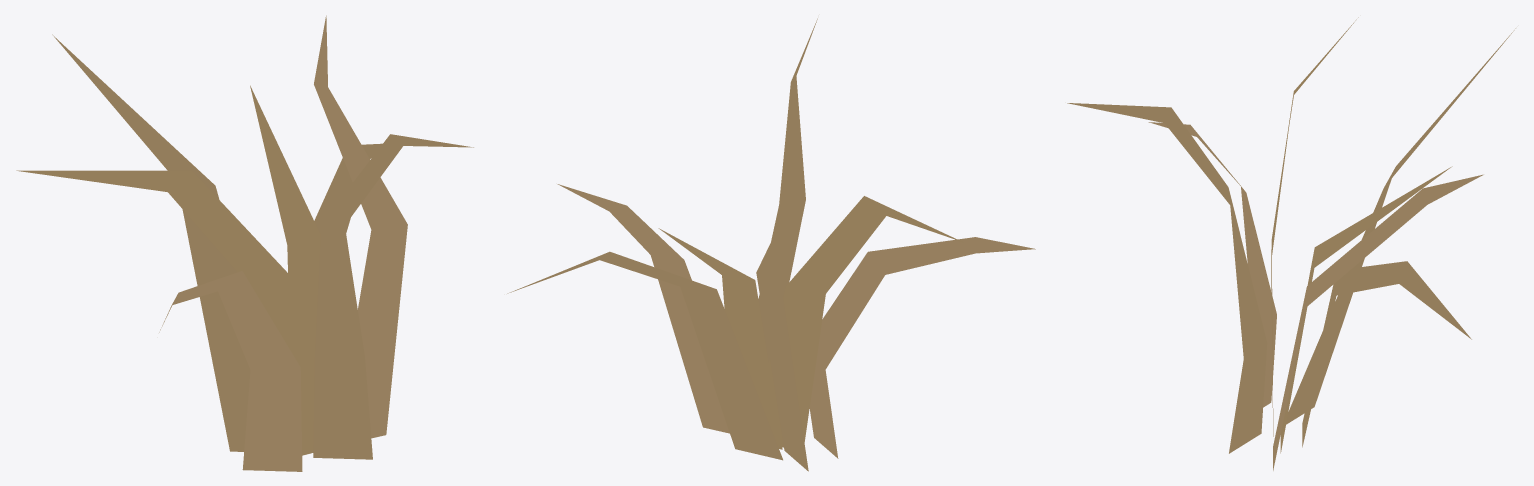
Rendered from Grass_e_OneS_03.fbx.
3 renders of one model, left to right at view 1: azimuth 30°, elevation 25°; view 2: azimuth 150°, elevation 25°; view 3: azimuth 270°, elevation 25°, orthographic. The views are drawn at different scales.
Parts seen in each view (by area): view 1: Grass_e_OneS_03; view 2: Grass_e_OneS_03; view 3: Grass_e_OneS_03.
Part boxes in pixels (bbox=[...]): Grass_e_OneS_03: bbox=[16, 15, 473, 471]; Grass_e_OneS_03: bbox=[507, 18, 1035, 471]; Grass_e_OneS_03: bbox=[1067, 17, 1515, 470].
Size of the model in its own units: 0.5484 by 0.4434 by 0.506.
